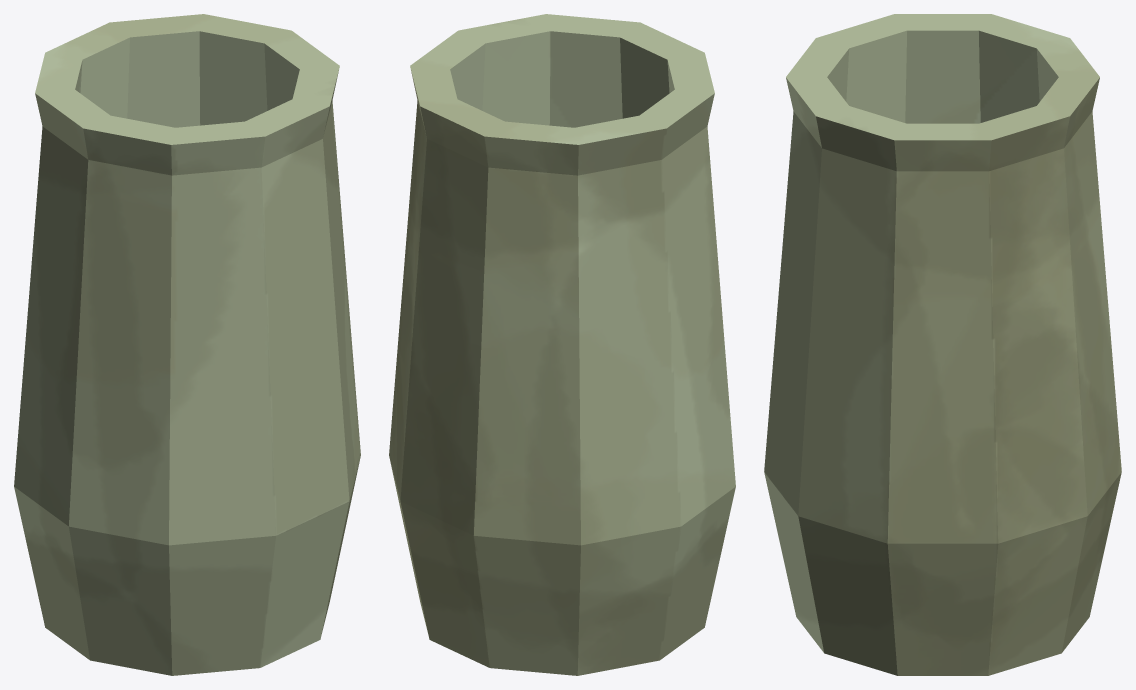
The model's file is Pot.glb.
3 views of the same model, side by side, from view 1: azimuth 30°, elevation 25°; view 2: azimuth 150°, elevation 25°; view 3: azimuth 270°, elevation 25° (orthographic).
Parts seen in each view (by area): view 1: PotFlower.001; view 2: PotFlower.001; view 3: PotFlower.001.
Part boxes in pixels (x1=…): PotFlower.001: x1=14, y1=14, x2=360, y2=675; PotFlower.001: x1=389, y1=14, x2=735, y2=675; PotFlower.001: x1=764, y1=14, x2=1121, y2=675.
Size of the model in its own units: 0.1682 by 0.2945 by 0.1769.
Materials: 1 (1 with a texture image).
